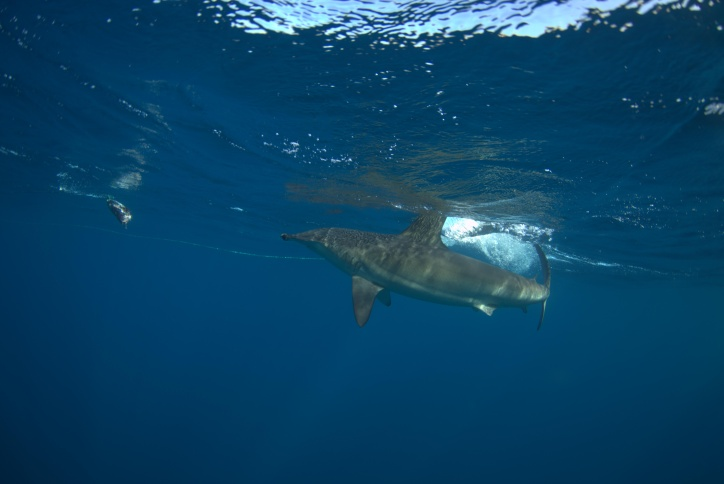Hammer: (240, 188, 566, 362)
